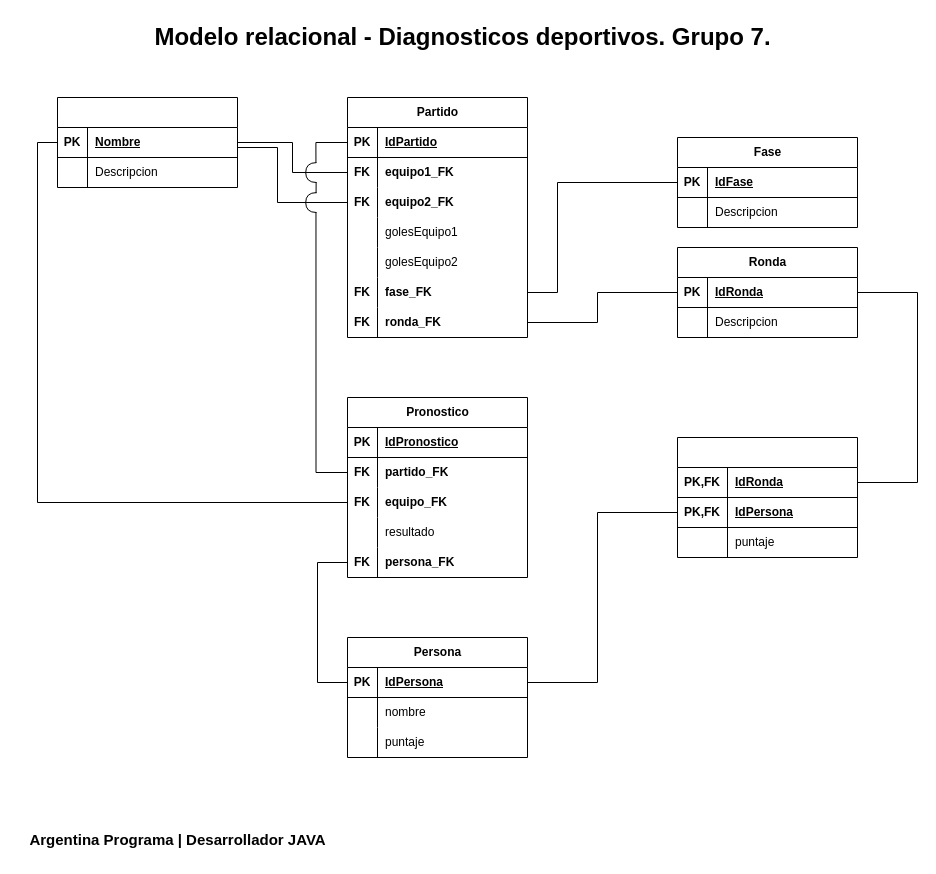
This 936x874 diagram has some shape labels left out. Here are the shapes that lost their labels. From the top down, the box of each, then its label:
(56, 96, 238, 188): Equipo
(676, 436, 858, 558): PuntajeRonda
